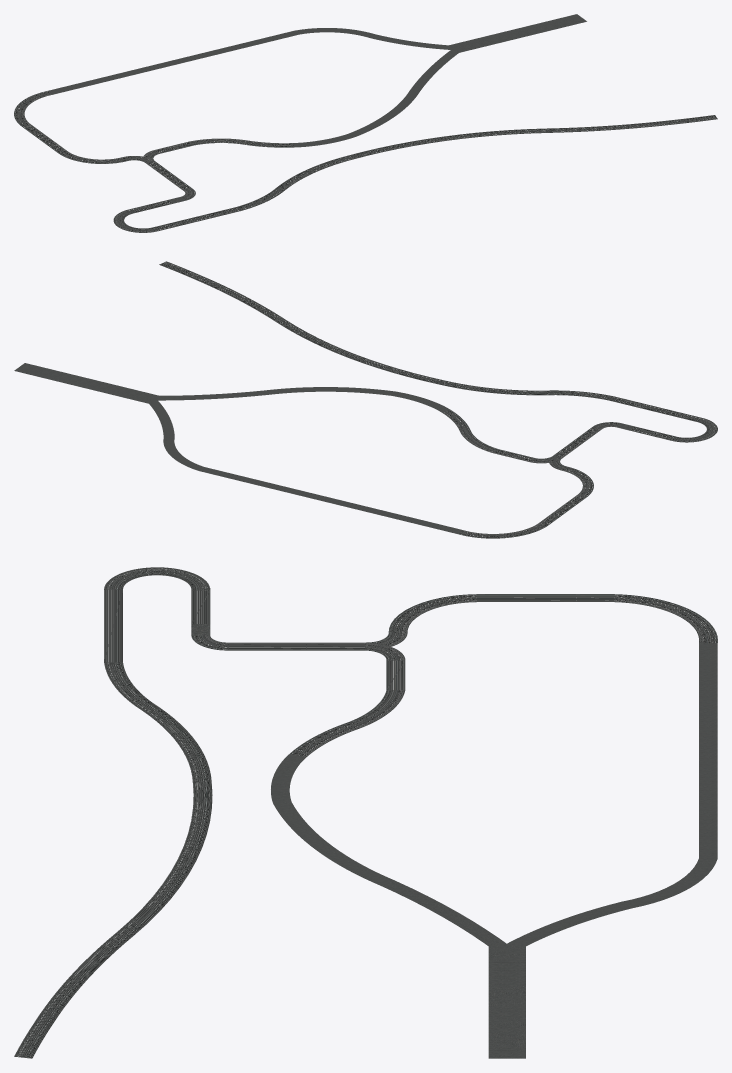
Rendered from way.fbx.
The picture shows the model from 3 angles, top to bottom: view 1: azimuth 30°, elevation 25°; view 2: azimuth 150°, elevation 25°; view 3: azimuth 270°, elevation 25°; orthographic projection. The views are drawn at different scales.
Visible parts, largest first — view 1: Cube.004; view 2: Cube.004; view 3: Cube.004.
Part boxes in pixels (x1,y1,x2,y2): Cube.004: (14, 14, 717, 232); Cube.004: (14, 261, 717, 538); Cube.004: (14, 567, 717, 1058).
Size of the model in its own units: 367178 by 0.0522 by 222319.
Materials: 1 (1 with a texture image).
